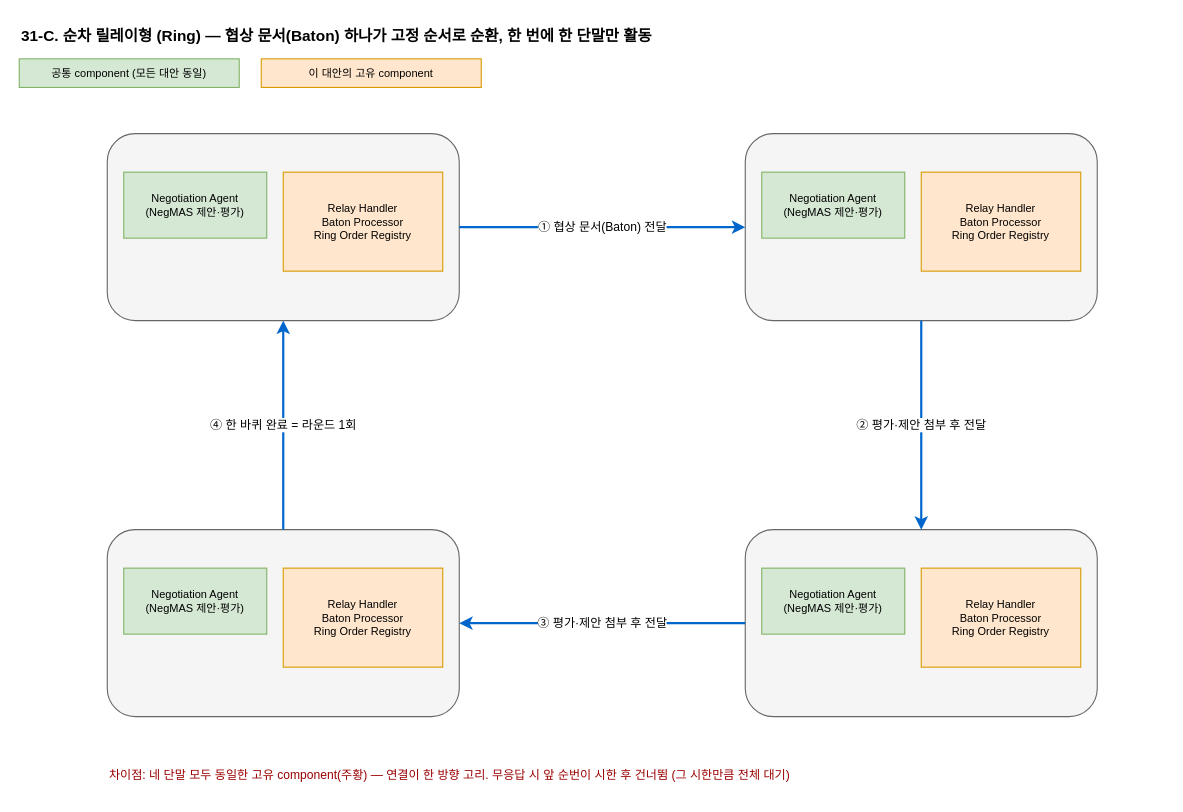
Image size: 1183x812. Some labels were removed from this diagram. Here are the shapes that lost their labels. From the top down, the box of each, then its label:
(106, 133, 459, 321): 개시자 단말 (순번 1)
(744, 133, 1097, 321): 참여자 단말 1 (순번 2)
(106, 529, 459, 717): 참여자 단말 3 (순번 4)
(744, 529, 1097, 717): 참여자 단말 2 (순번 3)
